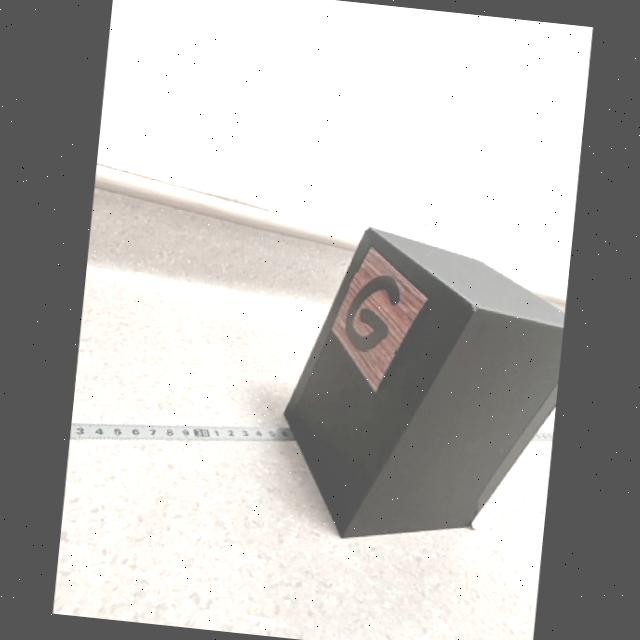G: (345, 276, 400, 351)
